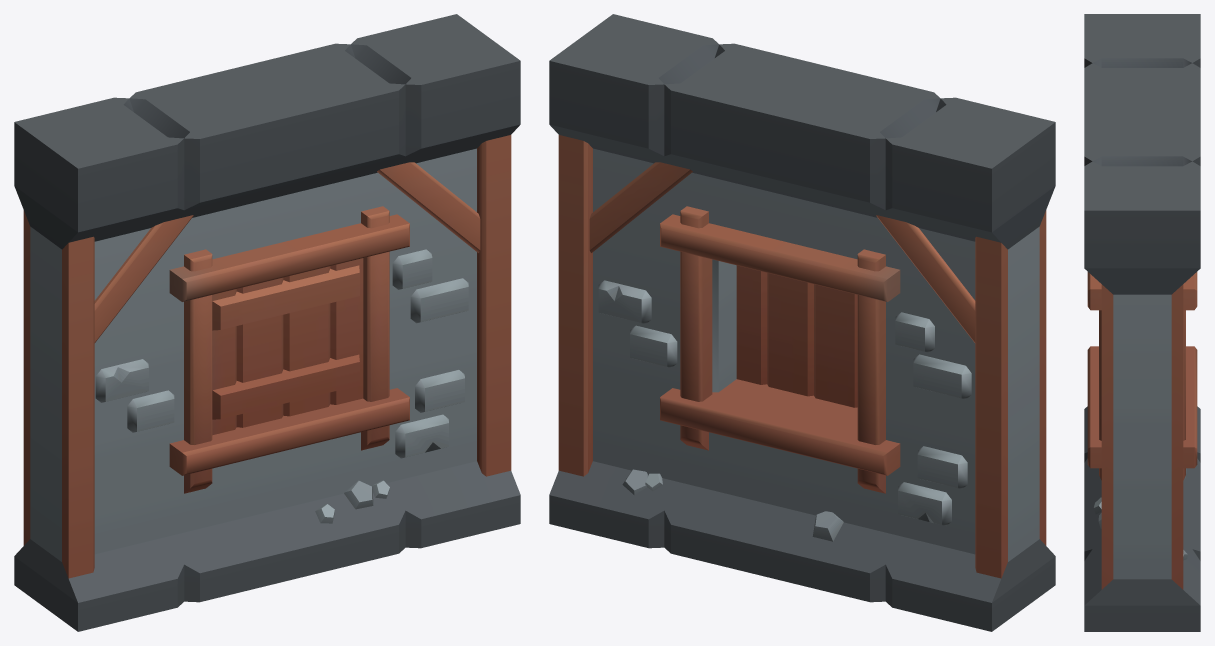
File: wall_window_closed_scaffold.glb
3 views of the same model, side by side, from view 1: azimuth 30°, elevation 25°; view 2: azimuth 150°, elevation 25°; view 3: azimuth 270°, elevation 25° (orthographic). The views are drawn at different scales.
Parts seen in each view (by area): view 1: wall_window_closed_scaffold; view 2: wall_window_closed_scaffold; view 3: wall_window_closed_scaffold.
Boxes of the visible parts, x1,y1,x2,y2 form: wall_window_closed_scaffold: (14,14,520,631); wall_window_closed_scaffold: (549,14,1055,631); wall_window_closed_scaffold: (1084,14,1200,631).
Bounding box in the file's own units: 4 × 4 × 1.
Materials: 1 (1 with a texture image).
